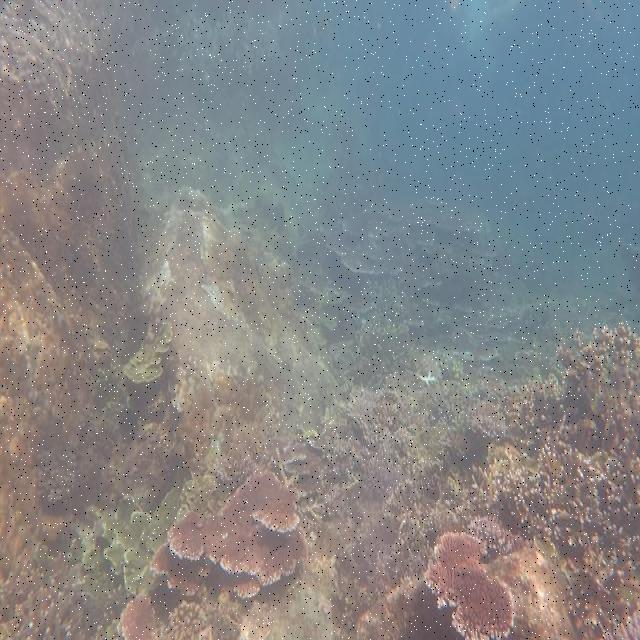reefs: (496, 320, 639, 638), (150, 471, 309, 597), (424, 531, 514, 639), (103, 480, 179, 595)
sea-floor: (0, 1, 143, 586), (131, 186, 345, 433)
